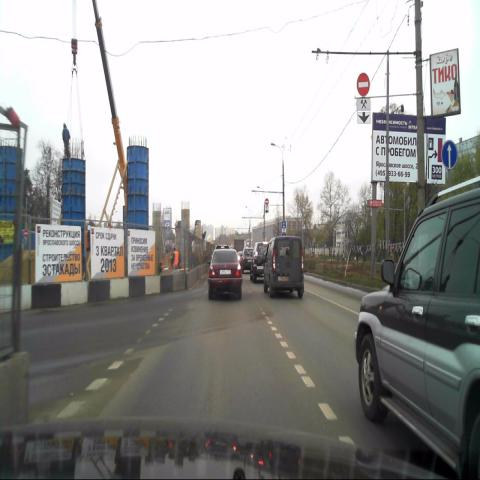3_1: (357, 73, 370, 96)
4_1_1: (442, 138, 458, 168)
